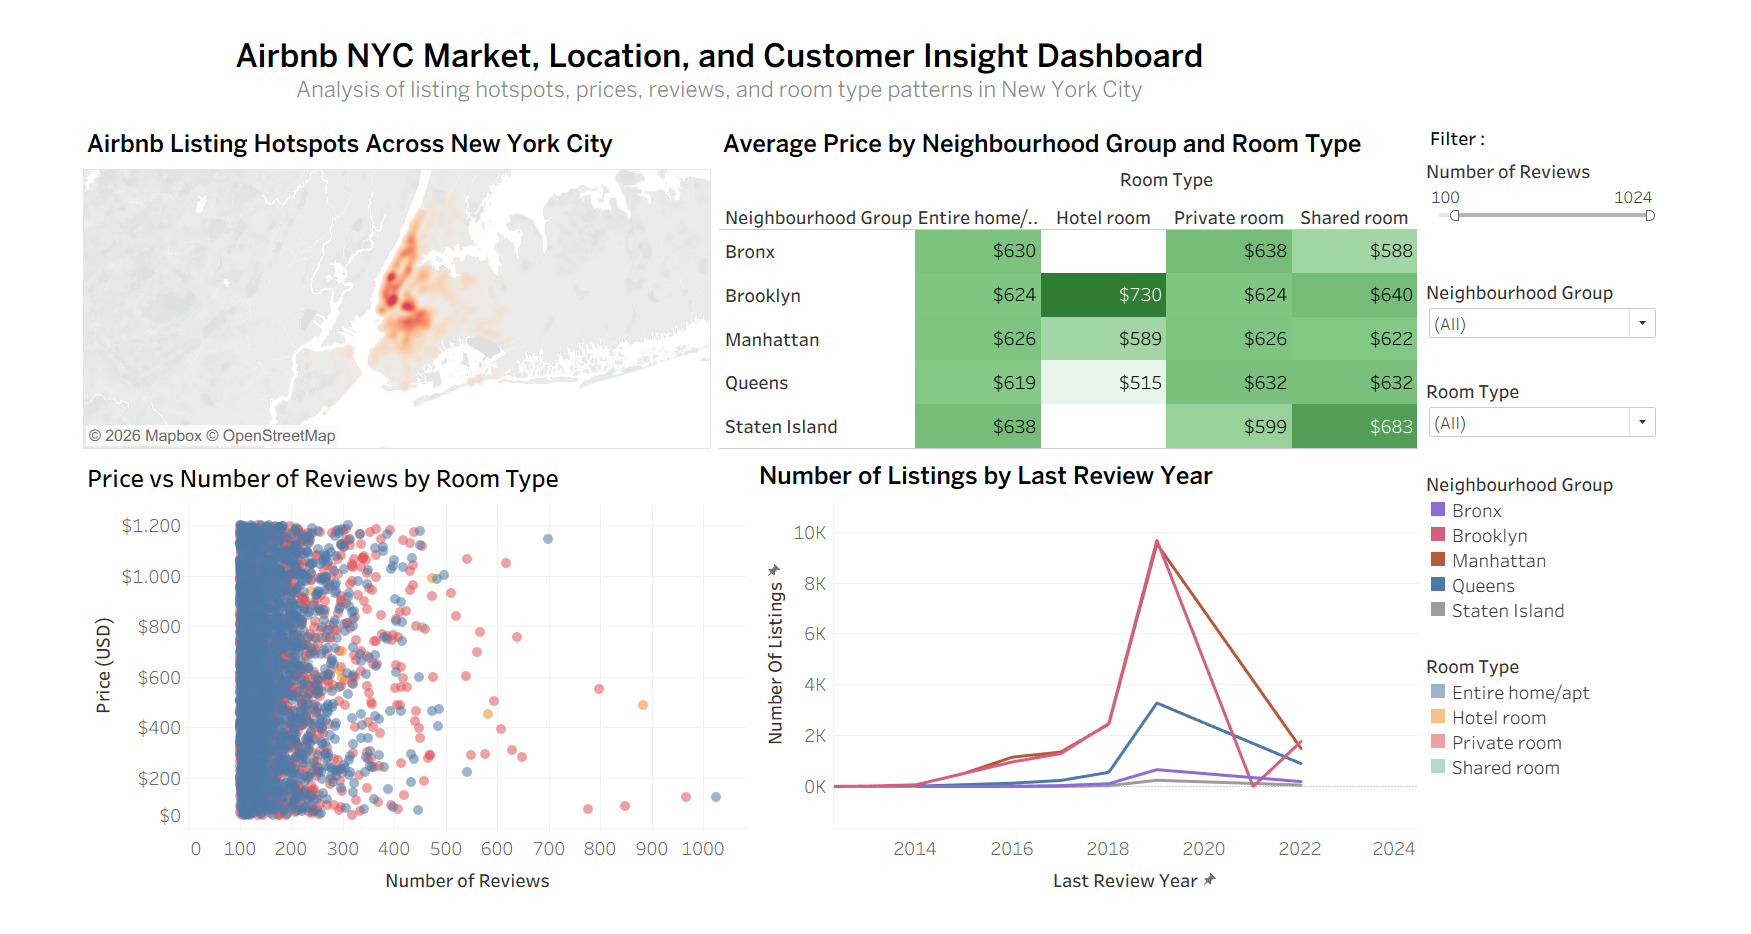

The page's visual inventory and layout, read from the dashboard file:
{"tool":"tableau","page":{"name":"Dashboard 1","canvas":[1600,900],"ordinal":0},"visuals":[{"type":"text","box":[8,8,1281,102]},{"type":"blank","box":[1289,8,303,102]},{"type":"worksheet","title":"Airbnb Listing Hotspot Across New York City","mark":"Heatmap","rows":["Latitude"],"cols":["Longitude"],"box":[8,110,636,332]},{"type":"worksheet","title":"Average Price by Neighbourhood Group","mark":"Square","rows":["Neighbourhood Group"],"cols":["Room Type"],"box":[644,110,707,332]},{"type":"text","box":[1351,110,241,33]},{"type":"filter","title":"Price vs Number of Reviews","param":"[federated.0kybpwp0ubh34k198egbh0cyqm8i].[none:Number of Reviews:qk]","box":[1351,143,241,121]},{"type":"filter","title":"Airbnb Listing Hotspot Across New York City","param":"[federated.0kybpwp0ubh34k198egbh0cyqm8i].[none:Neighbourhood Group:nk]","box":[1351,264,241,99]},{"type":"filter","title":"Airbnb Listing Hotspot Across New York City","param":"[federated.0kybpwp0ubh34k198egbh0cyqm8i].[none:Room Type:nk]","box":[1351,363,241,93]},{"type":"worksheet","title":"Price vs Number of Reviews","mark":"Circle","rows":["Price"],"cols":["Number of Reviews"],"box":[8,442,671.5,450]},{"type":"worksheet","title":"Number of Listings by Last Review Year.","mark":"Line","rows":["Listing ID"],"cols":["Last Review Date"],"box":[679.5,442,671.5,450]},{"type":"legend","title":"Number of Listings by Last Review Year.","param":"[federated.0kybpwp0ubh34k198egbh0cyqm8i].[none:Neighbourhood Group:nk]","box":[1351,456,241,182]},{"type":"legend","title":"Price vs Number of Reviews","param":"[federated.0kybpwp0ubh34k198egbh0cyqm8i].[none:Room Type:nk]","box":[1351,638,241,152]}]}

Visuals, with their boxes on the page's 1600x900 design canvas (x1, y1, x2, y2). These are canvas units, not pixel positions in the 1751x934 screenshot, which may show the page scaled, cropped or inside an application window:
text: {"x1": 8, "y1": 8, "x2": 1289, "y2": 110}
blank: {"x1": 1289, "y1": 8, "x2": 1592, "y2": 110}
"Airbnb Listing Hotspot Across New York City" worksheet (Heatmap marks): {"x1": 8, "y1": 110, "x2": 644, "y2": 442}
"Average Price by Neighbourhood Group" worksheet (Square marks): {"x1": 644, "y1": 110, "x2": 1351, "y2": 442}
text: {"x1": 1351, "y1": 110, "x2": 1592, "y2": 143}
"Price vs Number of Reviews" filter: {"x1": 1351, "y1": 143, "x2": 1592, "y2": 264}
"Airbnb Listing Hotspot Across New York City" filter: {"x1": 1351, "y1": 264, "x2": 1592, "y2": 363}
"Airbnb Listing Hotspot Across New York City" filter: {"x1": 1351, "y1": 363, "x2": 1592, "y2": 456}
"Price vs Number of Reviews" worksheet (Circle marks): {"x1": 8, "y1": 442, "x2": 680, "y2": 892}
"Number of Listings by Last Review Year." worksheet (Line marks): {"x1": 680, "y1": 442, "x2": 1351, "y2": 892}
"Number of Listings by Last Review Year." legend: {"x1": 1351, "y1": 456, "x2": 1592, "y2": 638}
"Price vs Number of Reviews" legend: {"x1": 1351, "y1": 638, "x2": 1592, "y2": 790}
